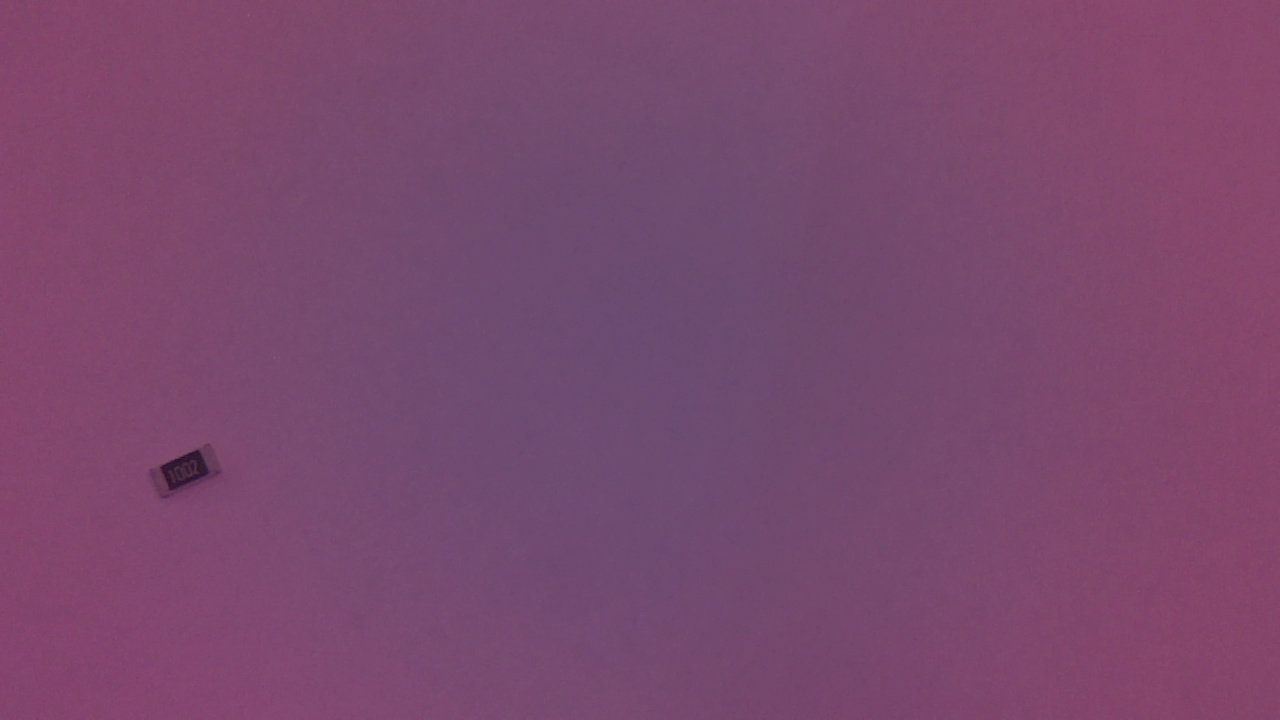Resistor: (150, 442, 231, 510)
